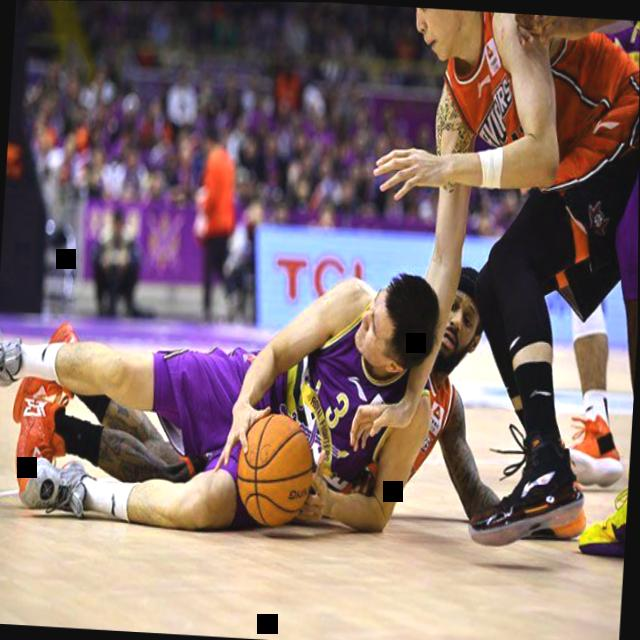Fall-Detected: (286, 263, 542, 547)
